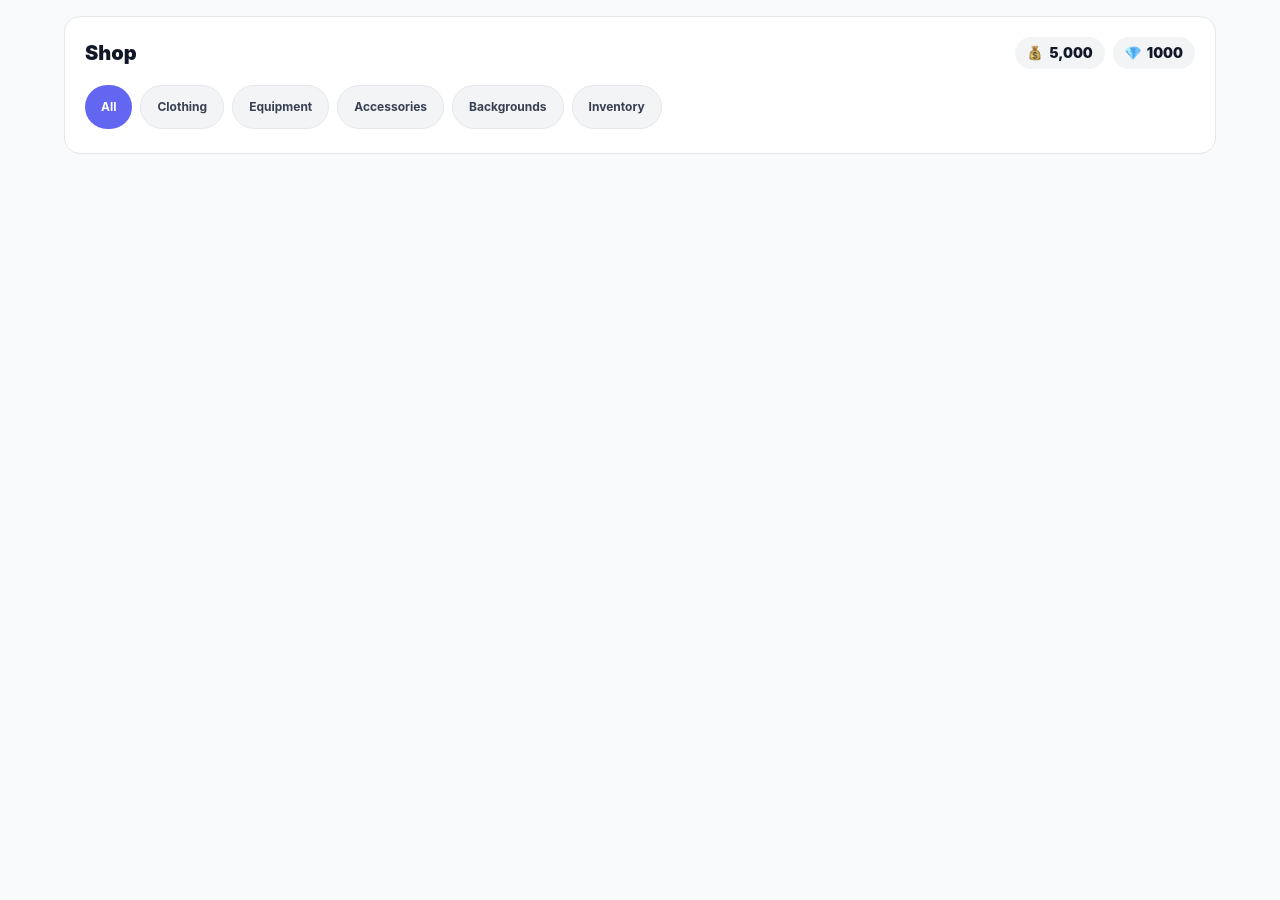
it: CosmeticShop › filters items by type
# The item cards also render a type chip, so target the filter button explicitly
Click the button "Backgrounds": (508, 107) [452,85,564,129]
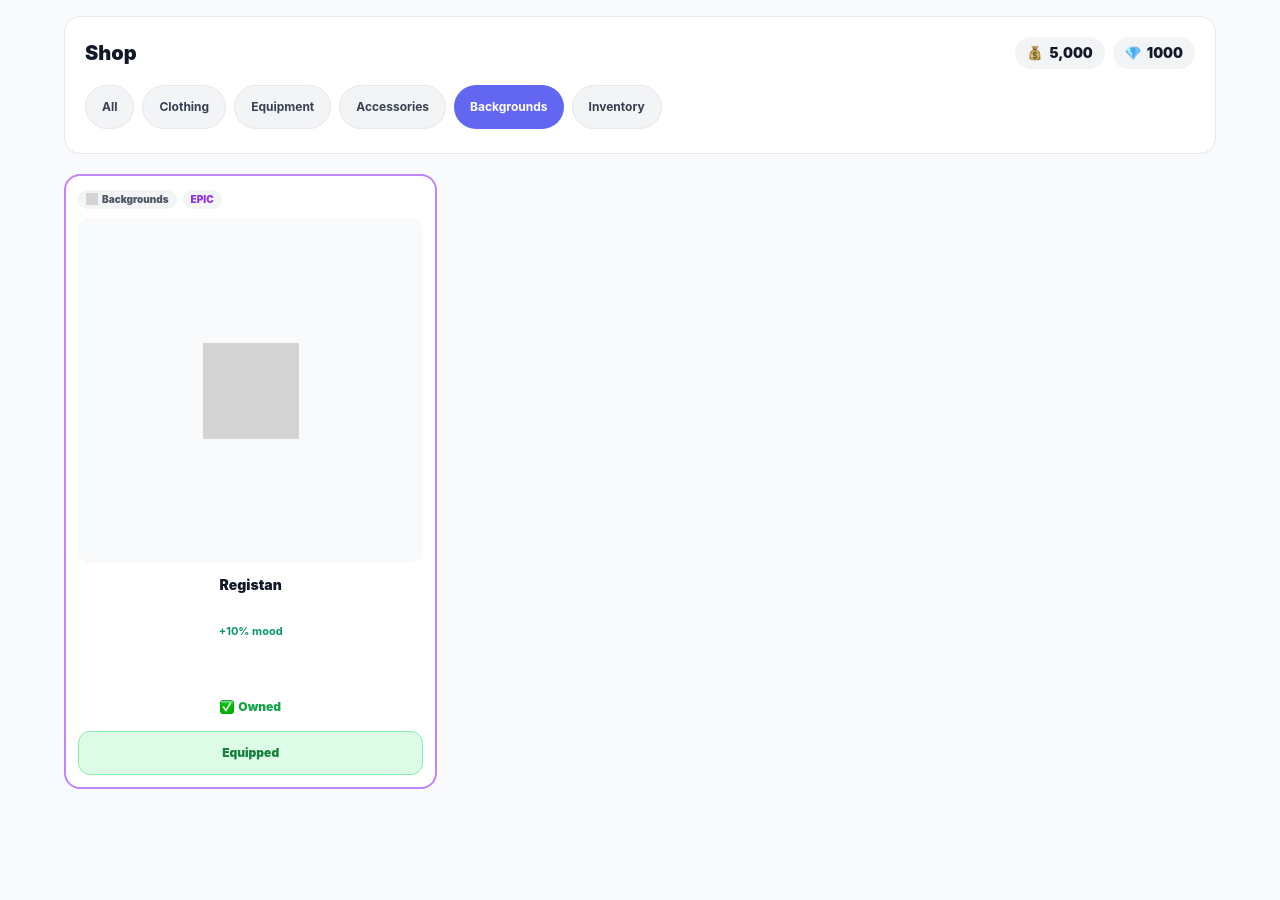
Now the heading "Registan" is shown, box [220,576,282,593]
